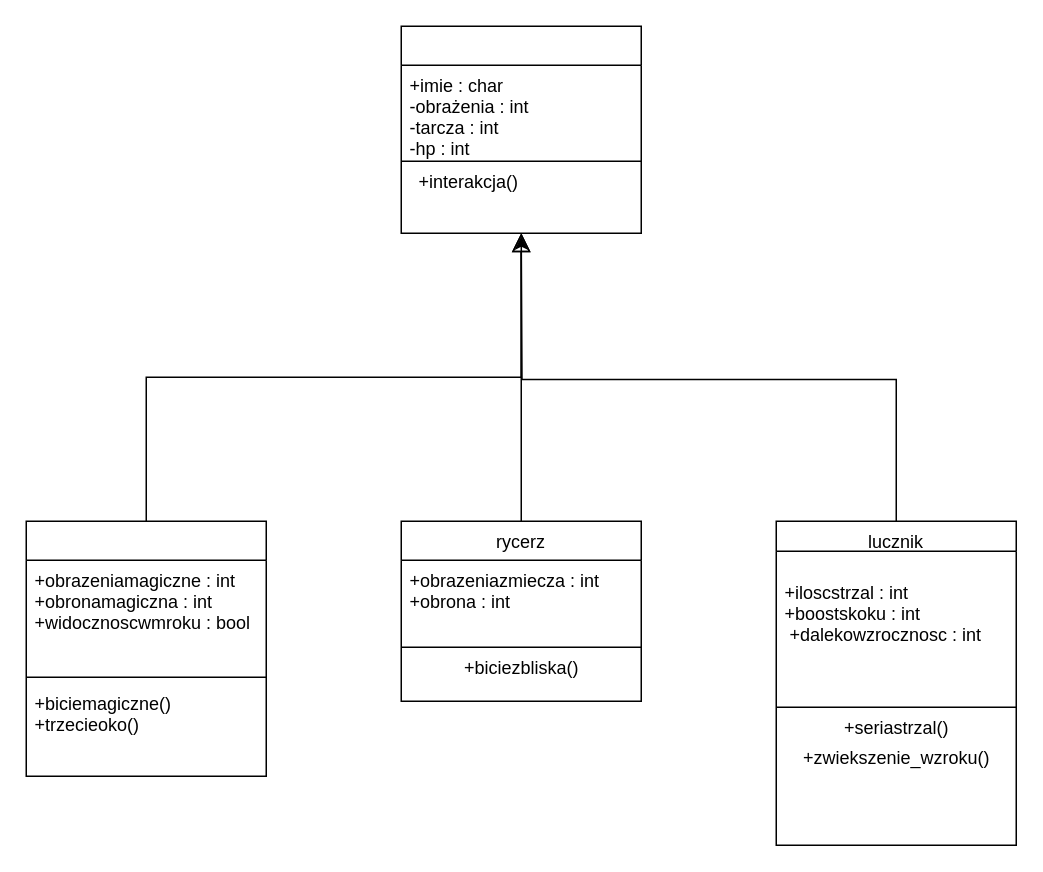
Some shapes in this 1043 by 872 pixel diagram are drawn without their labels. Here are the shapes that lost their labels. From the top down, the box of each, then its label:
(400, 25, 641, 233): postac
(25, 520, 266, 776): czarodziej
